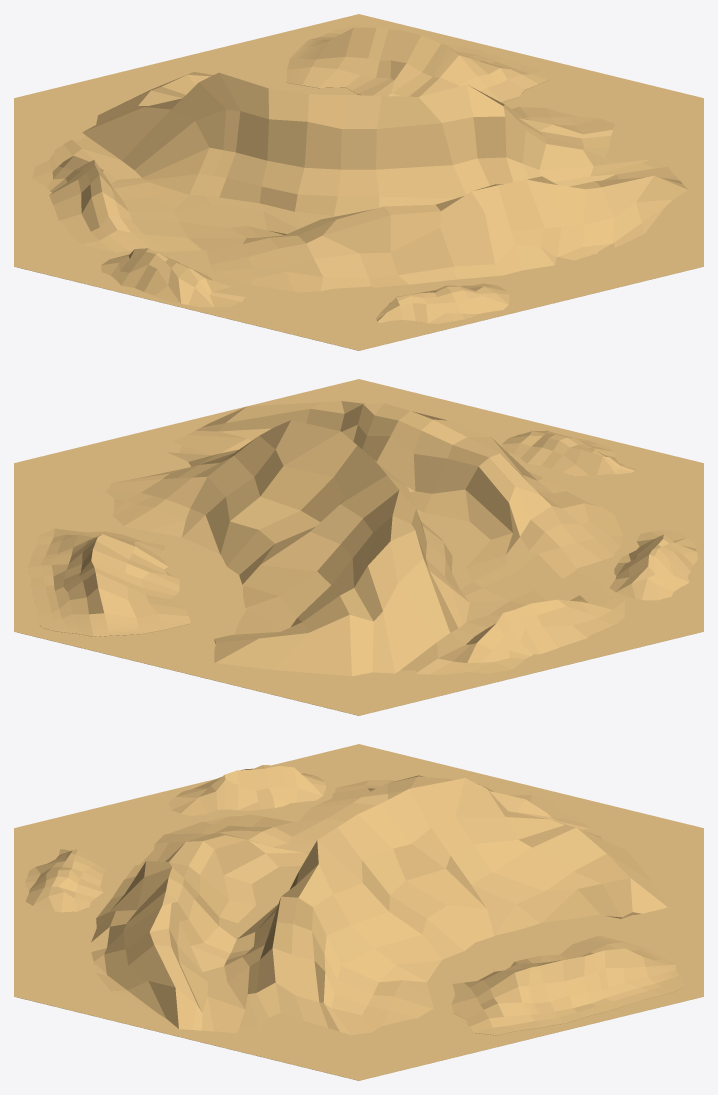
Rendered from DesertHexagon.fbx.
3 renders of one model, top to bottom at view 1: azimuth 30°, elevation 25°; view 2: azimuth 150°, elevation 25°; view 3: azimuth 270°, elevation 25°, orthographic.
Parts seen in each view (by area): view 1: G_Main_Sand_Dune, G_SandHexagon, G_Small_Sand_Dune, G_Short_Sand_Dune_2, G_Short_Sand_Dune_1; view 2: G_Main_Sand_Dune, G_SandHexagon, G_Small_Sand_Dune, G_Short_Sand_Dune_2, G_Short_Sand_Dune_1; view 3: G_Main_Sand_Dune, G_SandHexagon, G_Small_Sand_Dune, G_Short_Sand_Dune_2, G_Short_Sand_Dune_1.
Part boxes in pixels (left/top/right/bottom): G_Main_Sand_Dune: left=32, top=72, right=687, bottom=292; G_SandHexagon: left=14, top=14, right=703, bottom=350; G_Small_Sand_Dune: left=286, top=26, right=548, bottom=102; G_Short_Sand_Dune_2: left=101, top=248, right=245, bottom=307; G_Short_Sand_Dune_1: left=376, top=283, right=509, bottom=323; G_Main_Sand_Dune: left=106, top=401, right=624, bottom=676; G_SandHexagon: left=14, top=379, right=703, bottom=715; G_Small_Sand_Dune: left=28, top=528, right=191, bottom=636; G_Short_Sand_Dune_2: left=609, top=530, right=697, bottom=600; G_Short_Sand_Dune_1: left=501, top=430, right=637, bottom=476; G_Main_Sand_Dune: left=91, top=775, right=667, bottom=1035; G_SandHexagon: left=14, top=744, right=703, bottom=1080; G_Small_Sand_Dune: left=451, top=935, right=682, bottom=1035; G_Short_Sand_Dune_2: left=168, top=765, right=325, bottom=815; G_Short_Sand_Dune_1: left=25, top=849, right=105, bottom=912.
Size of the model in its own units: 3460 by 450 by 2996.
